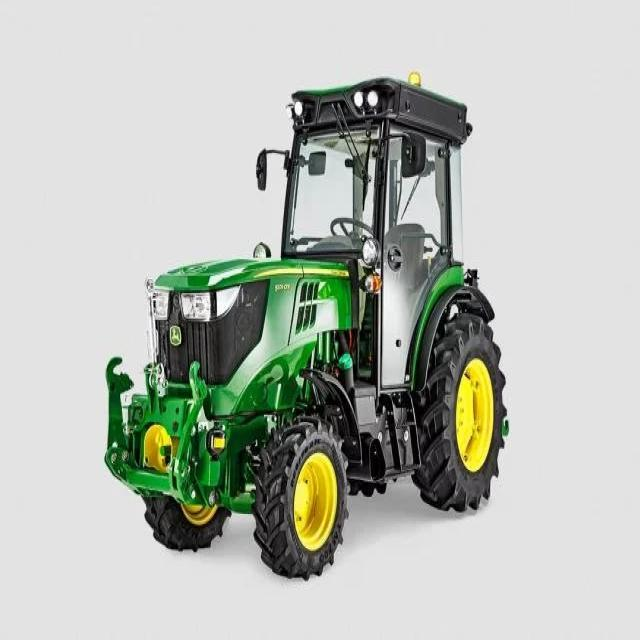Tratores - v5 YOLO V8L 2024-11-13: (96, 65, 516, 591)
